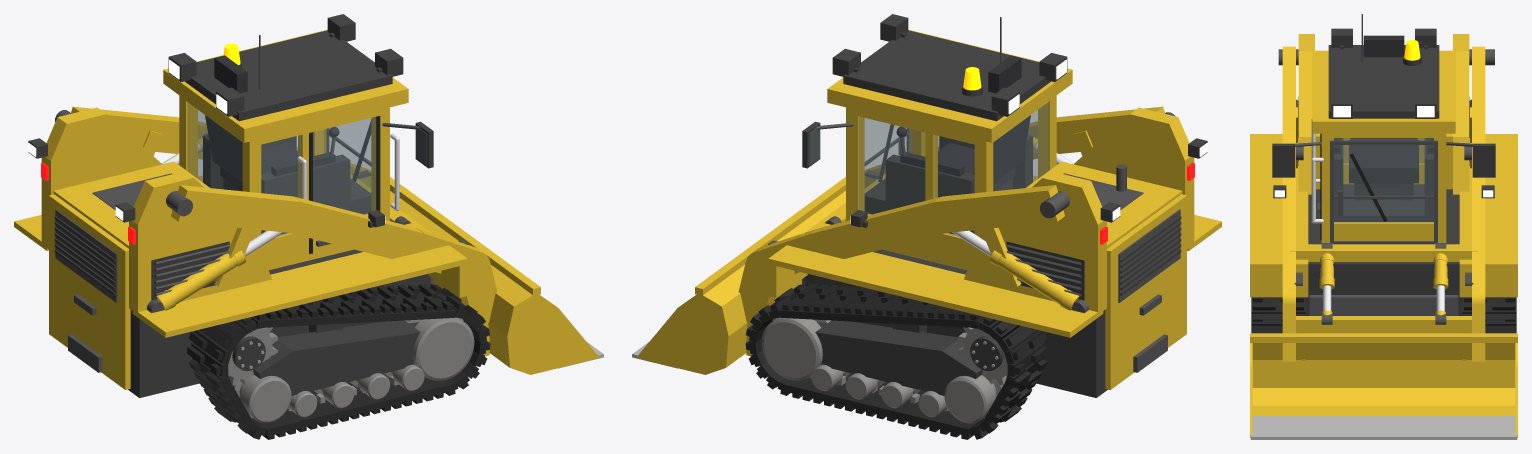
File: compact_track_loader.glb
The picture shows the model from 3 angles, left to right: view 1: azimuth 30°, elevation 25°; view 2: azimuth 150°, elevation 25°; view 3: azimuth 270°, elevation 25°; orthographic projection. The views are drawn at different scales.
Visible parts, largest first — view 1: body, cab, track_right, loader_arm_tilt, quick_attach_tilt, undercarriage_right, front_idler_right_spin, rear_idler_right_spin, sprocket_right_spin, lift_cylinder_right_rotate, lift_link_right_rotate, track_roller_right_3_spin (+3 smaller); view 2: body, cab, track_left, loader_arm_tilt, quick_attach_tilt, undercarriage_left, front_idler_left_spin, rear_idler_left_spin, sprocket_left_spin, lift_cylinder_left_rotate, lift_link_left_rotate, track_roller_left_3_spin (+3 smaller); view 3: quick_attach_tilt, cab, body, loader_arm_tilt, track_right, track_left, tilt_cylinder_right_rotate, tilt_cylinder_left_rotate, tilt_cylinder_right_rod_slide, tilt_cylinder_left_rod_slide.
Boxes of the visible parts, x1,y1,x2,y2 form: body: (14, 107, 467, 397); cab: (163, 14, 433, 270); track_right: (187, 284, 490, 439); loader_arm_tilt: (55, 106, 497, 324); quick_attach_tilt: (390, 177, 603, 374); undercarriage_right: (253, 320, 420, 395); front_idler_right_spin: (405, 317, 474, 380); rear_idler_right_spin: (232, 375, 291, 423); sprocket_right_spin: (228, 327, 278, 385); lift_cylinder_right_rotate: (146, 250, 246, 313); lift_link_right_rotate: (214, 227, 254, 289); track_roller_right_3_spin: (350, 373, 390, 399); body: (768, 107, 1221, 397); cab: (802, 14, 1072, 270); track_left: (745, 284, 1048, 439); loader_arm_tilt: (738, 106, 1175, 324); quick_attach_tilt: (632, 177, 845, 374); undercarriage_left: (815, 320, 982, 395); front_idler_left_spin: (761, 317, 830, 380); rear_idler_left_spin: (944, 375, 1003, 423); sprocket_left_spin: (957, 327, 1007, 385); lift_cylinder_left_rotate: (989, 250, 1089, 313); lift_link_left_rotate: (981, 227, 1021, 289); track_roller_left_3_spin: (845, 373, 885, 399); quick_attach_tilt: (1250, 316, 1517, 439); cab: (1272, 14, 1495, 244); body: (1250, 34, 1517, 315); loader_arm_tilt: (1273, 46, 1494, 361); track_right: (1251, 297, 1305, 333); track_left: (1462, 297, 1516, 333); tilt_cylinder_right_rotate: (1319, 243, 1334, 289); tilt_cylinder_left_rotate: (1433, 243, 1448, 289); tilt_cylinder_right_rod_slide: (1321, 285, 1332, 324); tilt_cylinder_left_rod_slide: (1435, 285, 1446, 324).
Size of the model in its own units: 3.42 by 2.5 by 1.98.
Materials: 16 (16 with a texture image).
